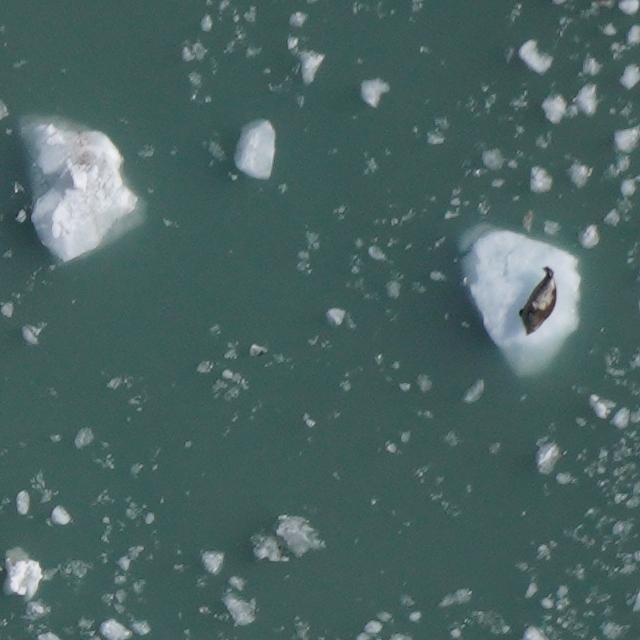seal: (513, 263, 560, 342)
